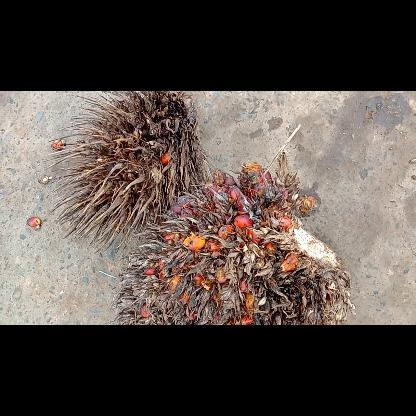Janjang kosong: (47, 90, 211, 252)
Terlalu masak: (110, 162, 354, 324)
